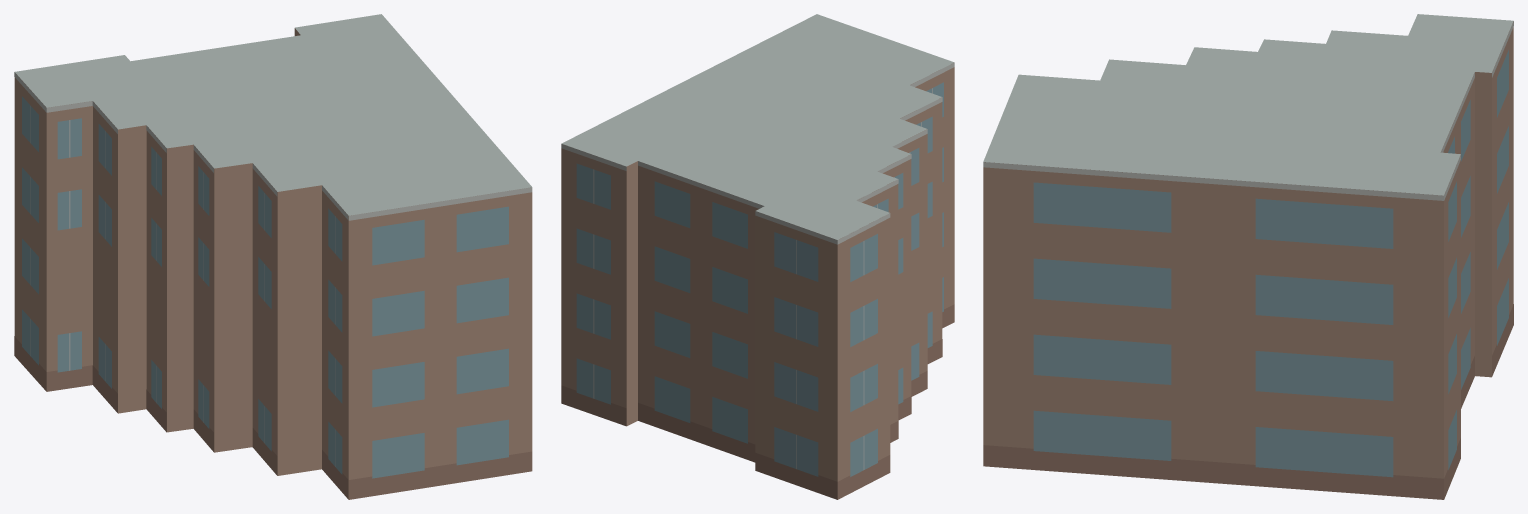
The model's file is survey-upis-32627717.glb.
3 renders of one model, left to right at view 1: azimuth 30°, elevation 25°; view 2: azimuth 150°, elevation 25°; view 3: azimuth 270°, elevation 25°, orthographic. The views are drawn at different scales.
Visible parts, largest first — view 1: survey-upis-32627717.tmp; view 2: survey-upis-32627717.tmp; view 3: survey-upis-32627717.tmp.
Boxes of the visible parts, x1,y1,x2,y2 form: survey-upis-32627717.tmp: (14,14,532,499); survey-upis-32627717.tmp: (561,14,954,499); survey-upis-32627717.tmp: (983,14,1513,499).
Bounding box in the file's own units: 17.6 × 13.75 × 21.74.
